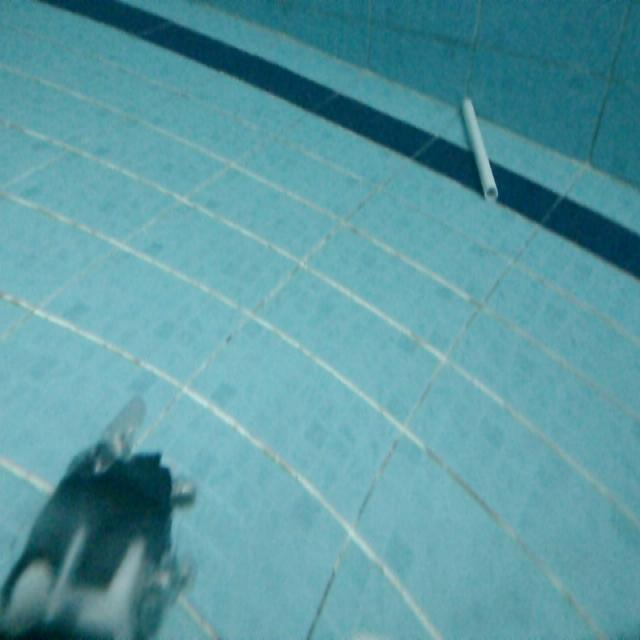Cube: (457, 89, 501, 204)
